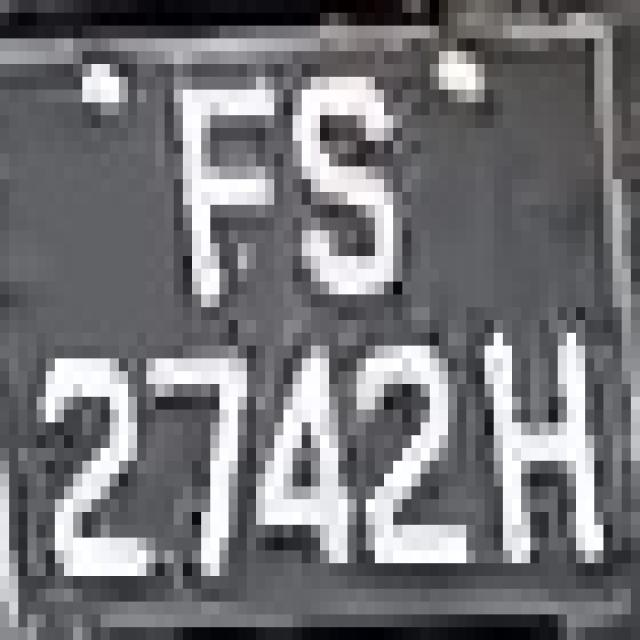2: (18, 307, 165, 602), (338, 308, 466, 614)
4: (220, 320, 356, 602)
7: (110, 307, 256, 576)
F: (165, 26, 292, 358)
H: (484, 282, 622, 588)
S: (274, 51, 421, 320)
